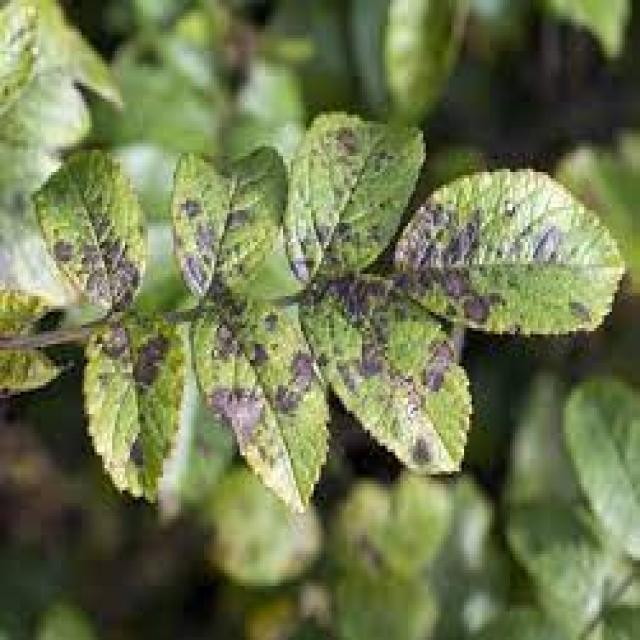black-spot: (398, 207, 563, 334)
